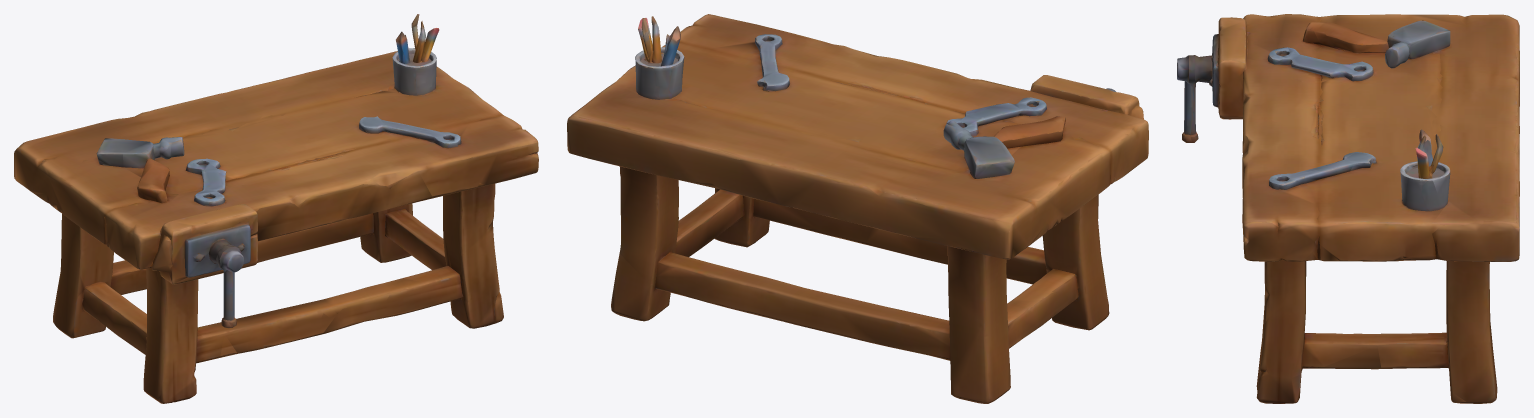
File: workbench.glb
The picture shows the model from 3 angles, left to right: view 1: azimuth 30°, elevation 25°; view 2: azimuth 150°, elevation 25°; view 3: azimuth 270°, elevation 25°; orthographic projection. The views are drawn at different scales.
Visible parts, largest first — view 1: Mesh; view 2: Mesh; view 3: Mesh.
Boxes of the visible parts, box(x1,y1,x2,y2) form: Mesh: box(14, 14, 538, 403); Mesh: box(567, 14, 1148, 403); Mesh: box(1177, 14, 1519, 403).
Size of the model in its own units: 1.9 by 1.13 by 1.31.
1 material, 1 textured.
